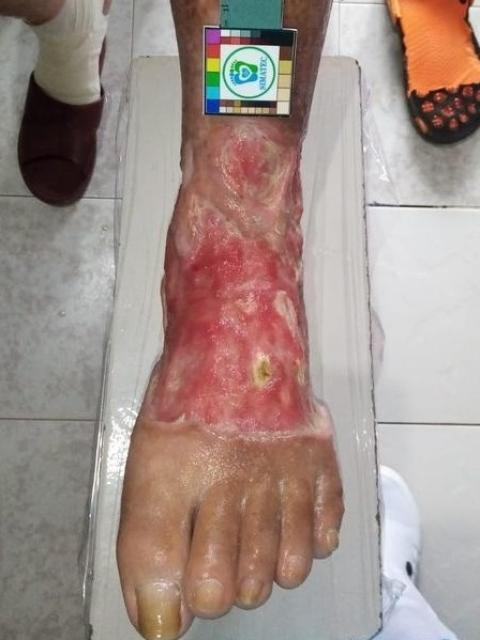wound: (153, 147, 319, 438), (220, 122, 290, 206), (183, 137, 194, 185)
